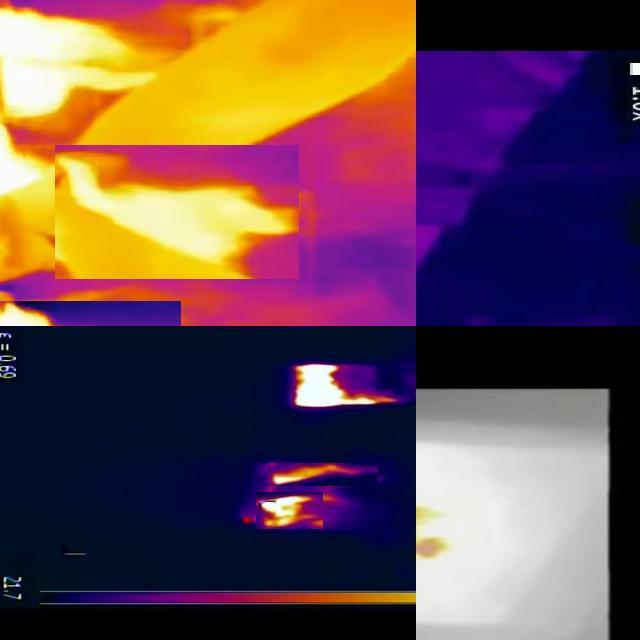fire: (61, 145, 186, 259), (1, 6, 68, 119), (296, 365, 396, 409), (258, 492, 312, 530), (1, 139, 33, 197), (1, 301, 67, 327), (269, 463, 302, 489)
